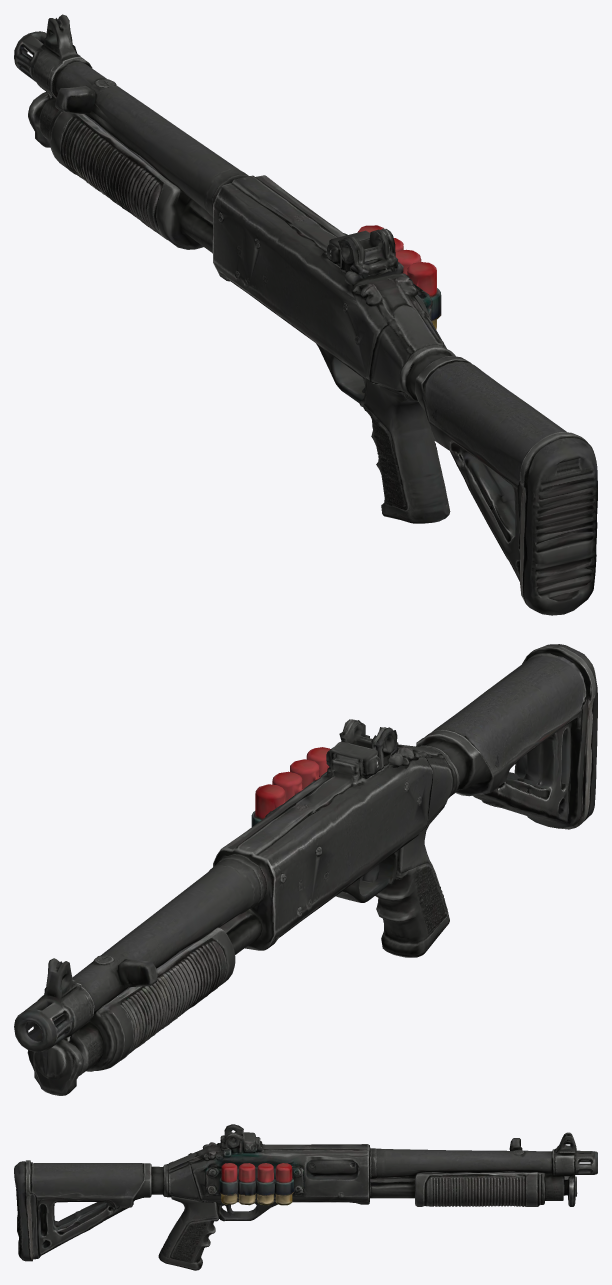
Rendered from shotgun.glb.
The picture shows the model from 3 angles, top to bottom: view 1: azimuth 30°, elevation 25°; view 2: azimuth 150°, elevation 25°; view 3: azimuth 270°, elevation 25°; orthographic projection. The views are drawn at different scales.
Parts seen in each view (by area): view 1: tripo_node_2ee9841c-5caa-4eb2-9f39-3c776b1c661d; view 2: tripo_node_2ee9841c-5caa-4eb2-9f39-3c776b1c661d; view 3: tripo_node_2ee9841c-5caa-4eb2-9f39-3c776b1c661d.
Boxes of the visible parts, <box> form: tripo_node_2ee9841c-5caa-4eb2-9f39-3c776b1c661d: <box>14,14,597,615</box>; tripo_node_2ee9841c-5caa-4eb2-9f39-3c776b1c661d: <box>14,644,597,1095</box>; tripo_node_2ee9841c-5caa-4eb2-9f39-3c776b1c661d: <box>14,1124,597,1270</box>.
Size of the model in its own units: 0.122 by 0.2553 by 0.9826.
1 material, 1 textured.
